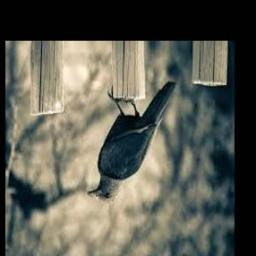Crow: (88, 81, 178, 204)
